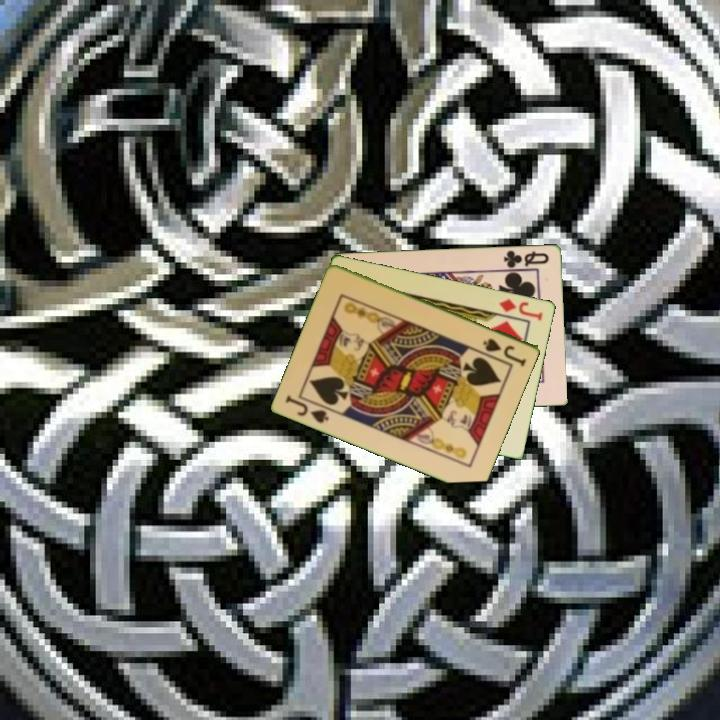Jd: (496, 295, 546, 323)
Js: (282, 391, 332, 426), (480, 334, 529, 367)
Qc: (501, 246, 552, 271)
